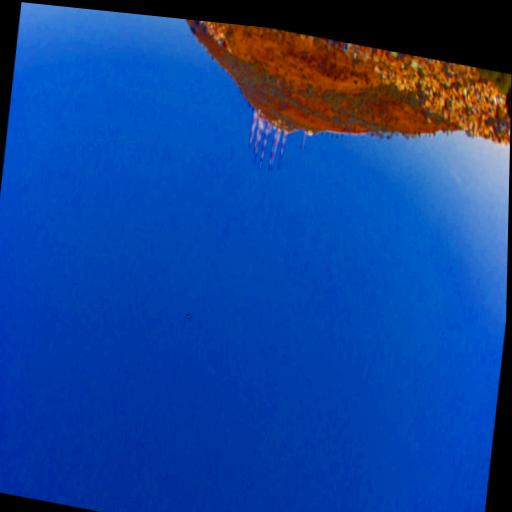drones: (184, 311, 193, 323)
